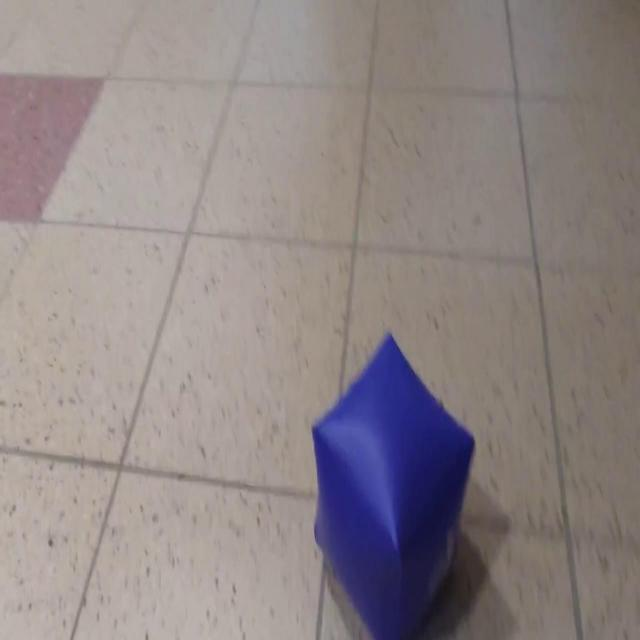frc_cube: (312, 333, 476, 640)
